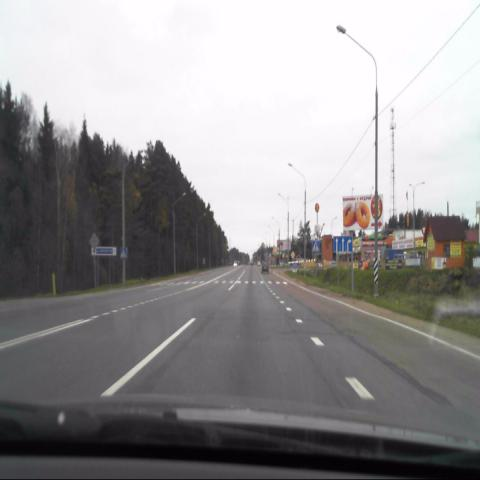5_15_1: (334, 236, 352, 252)
